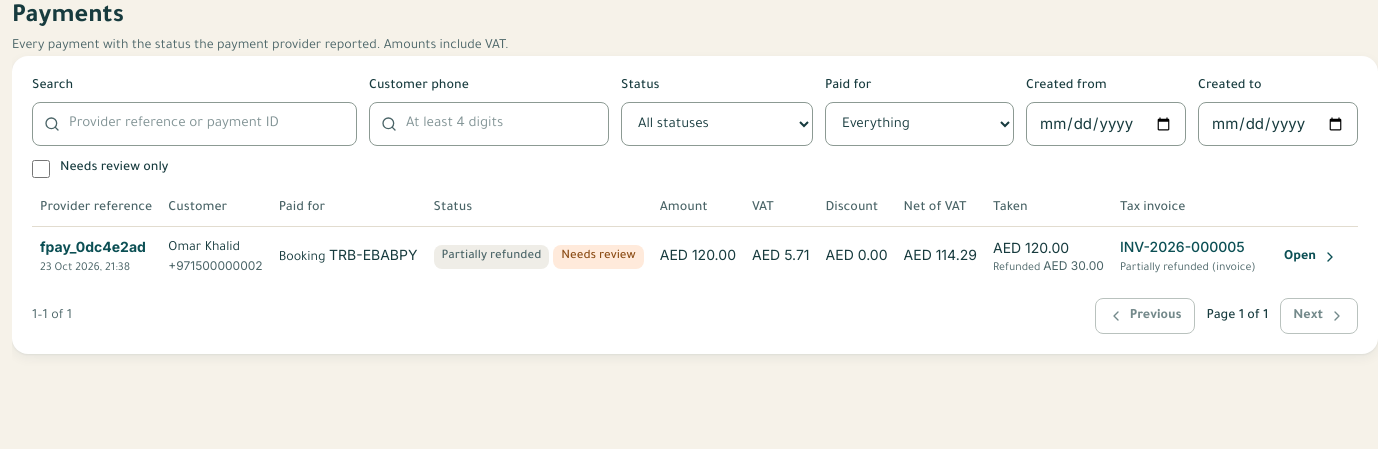
Test: A09 payments list › writes a filter to the URL and waits for a phone search the API can use
Expected: the link "fpay_0dc4e2ad" is shown, left=40, top=237, right=152, bottom=260
Select "Refunded" in the dropdown labelled "Status" at point(717, 124), box left=621, top=102, right=813, bottom=146
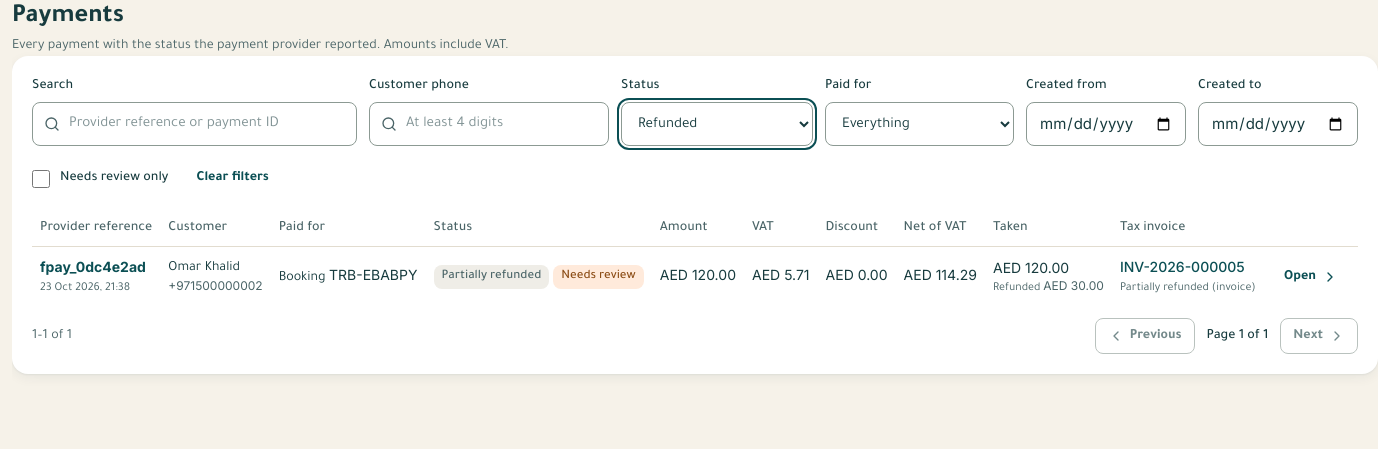
Type "05" into the search field labelled "Customer phone" at point(489, 124), box left=369, top=102, right=609, bottom=146
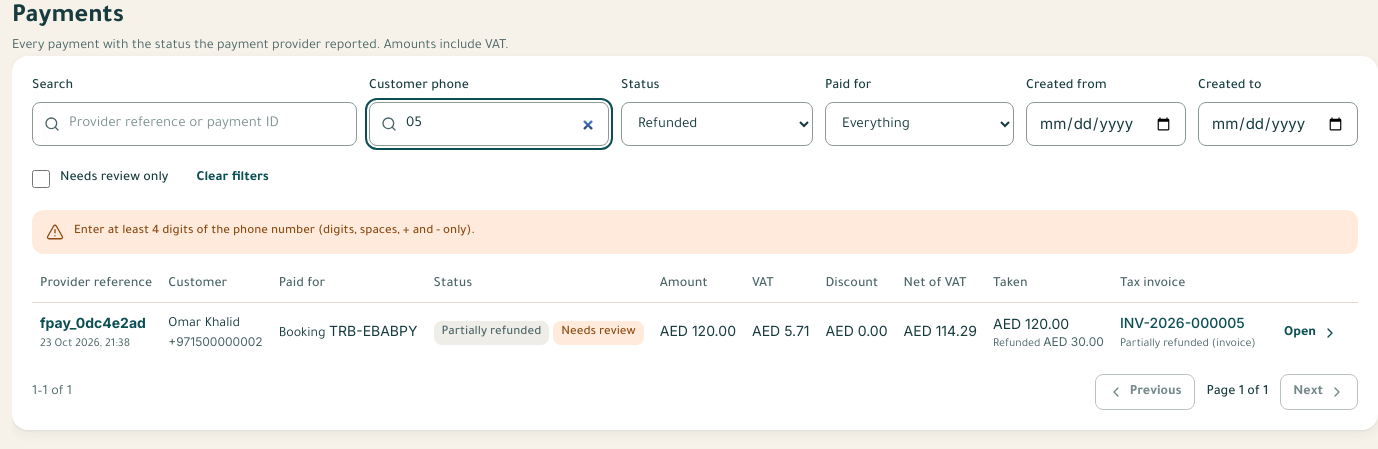
Now the text "Enter at least 4 digits" is shown, box left=74, top=225, right=475, bottom=238
